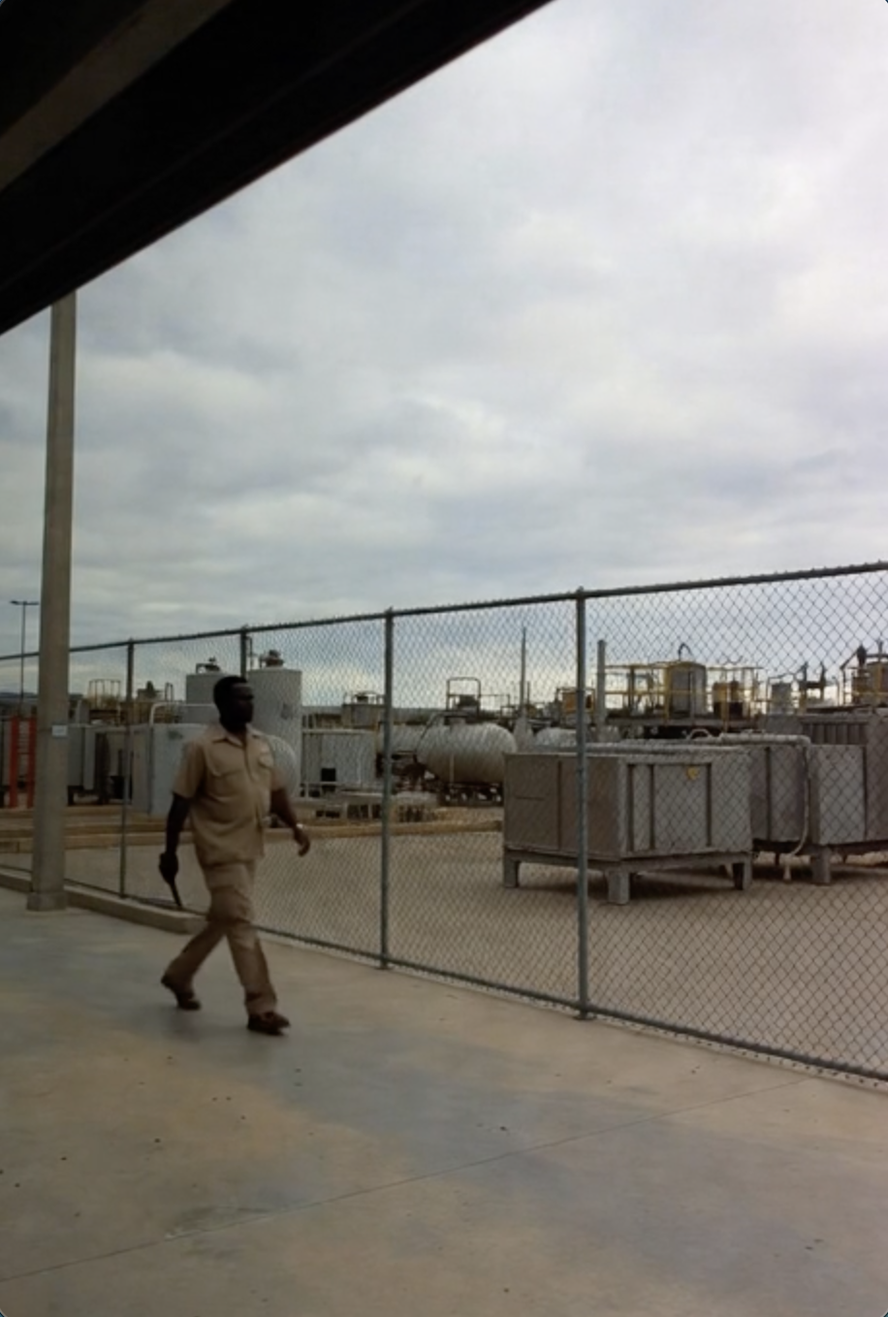Heavy Gun: (155, 671, 316, 1034)
Knife: (153, 848, 198, 914)
